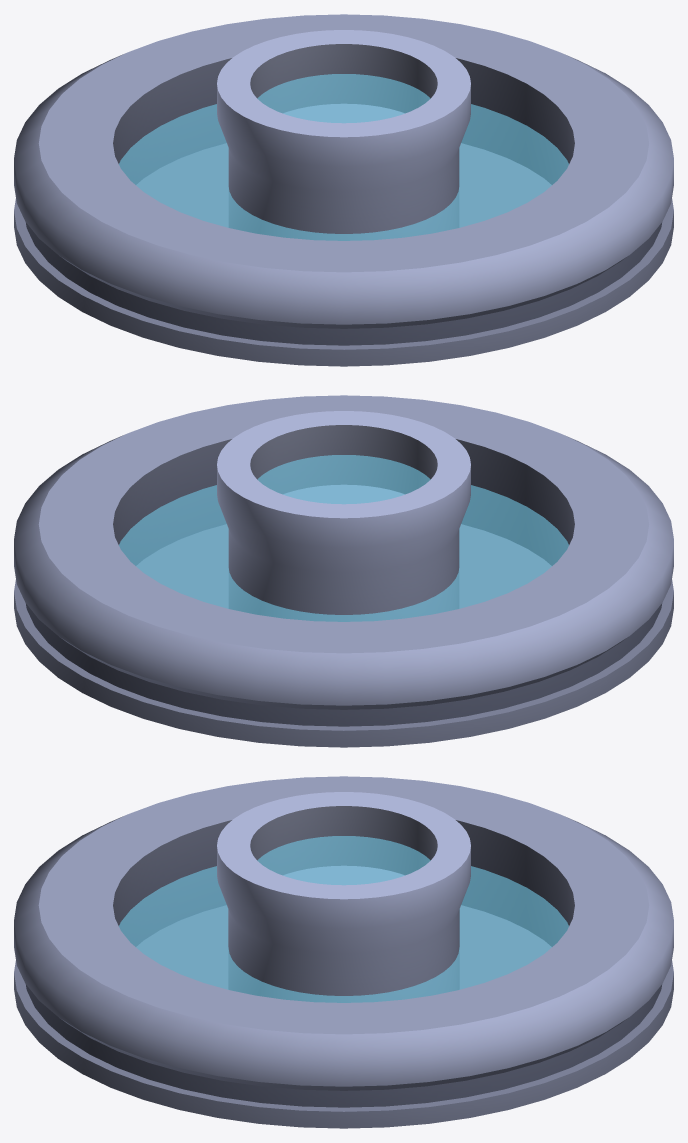
Rendered from fountain-round-detail.glb.
3 views of the same model, one above another, from view 1: azimuth 30°, elevation 25°; view 2: azimuth 150°, elevation 25°; view 3: azimuth 270°, elevation 25° (orthographic).
Parts seen in each view (by area): view 1: fountain-round-detail, (%ignore); view 2: fountain-round-detail, (%ignore); view 3: fountain-round-detail, (%ignore).
Part boxes in pixels (left/top/right/bottom): fountain-round-detail: left=14, top=14, right=673, bottom=366; (%ignore): left=119, top=74, right=568, bottom=240; fountain-round-detail: left=14, top=395, right=673, bottom=747; (%ignore): left=119, top=455, right=568, bottom=621; fountain-round-detail: left=14, top=776, right=673, bottom=1128; (%ignore): left=119, top=836, right=568, bottom=1002.
Size of the model in its own units: 2 by 0.48 by 2.
Materials: 2 (1 with a texture image).
